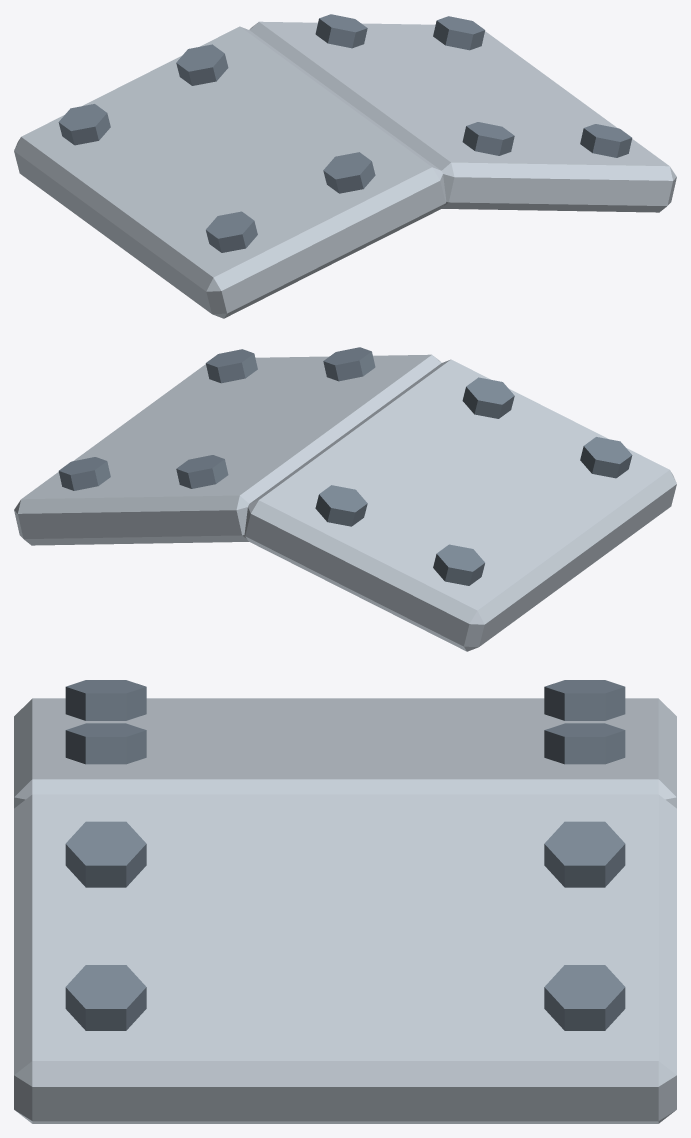
File: item_plate_chrome.fbx
3 renders of one model, top to bottom at view 1: azimuth 30°, elevation 25°; view 2: azimuth 150°, elevation 25°; view 3: azimuth 270°, elevation 25°, orthographic. The views are drawn at different scales.
Visible parts, largest first — view 1: item_plate_chrome; view 2: item_plate_chrome; view 3: item_plate_chrome.
Part boxes in pixels (x1,y1,x2,y2): item_plate_chrome: [14, 14, 676, 318]; item_plate_chrome: [14, 347, 676, 651]; item_plate_chrome: [14, 680, 676, 1123].
Size of the model in its own units: 2.4 by 0.5144 by 1.8.
